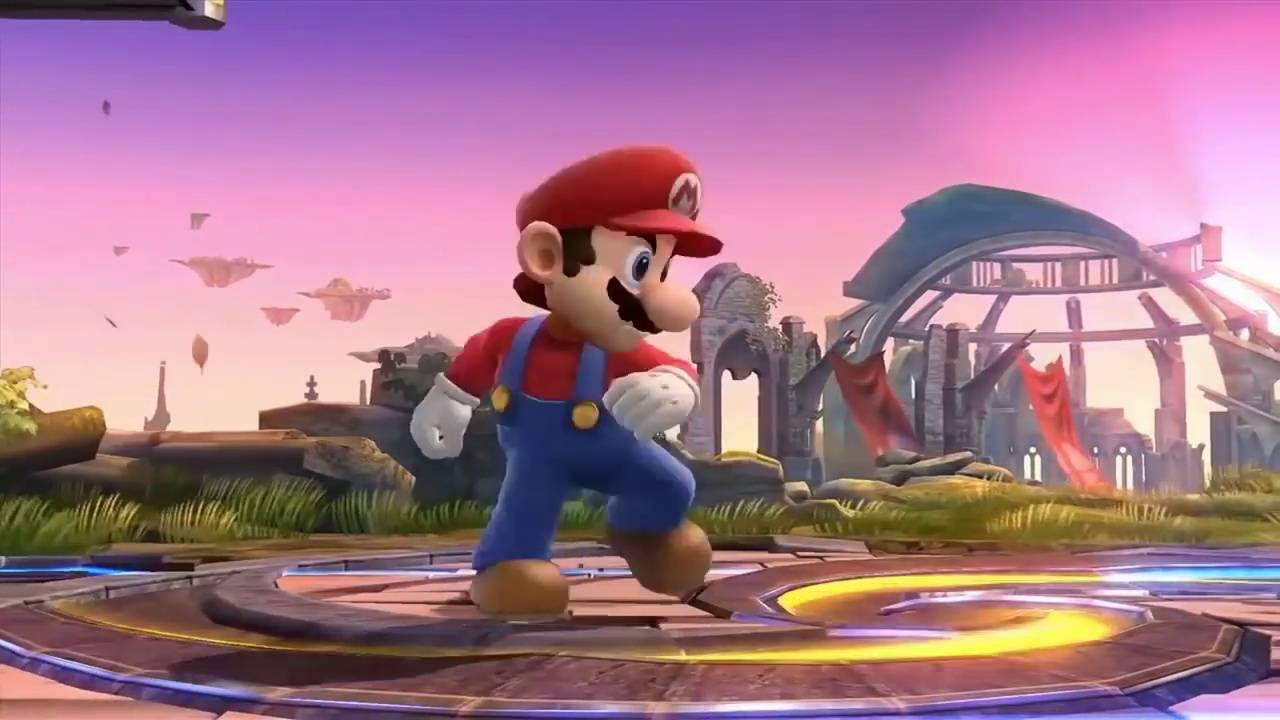Mario: (406, 144, 725, 614)
